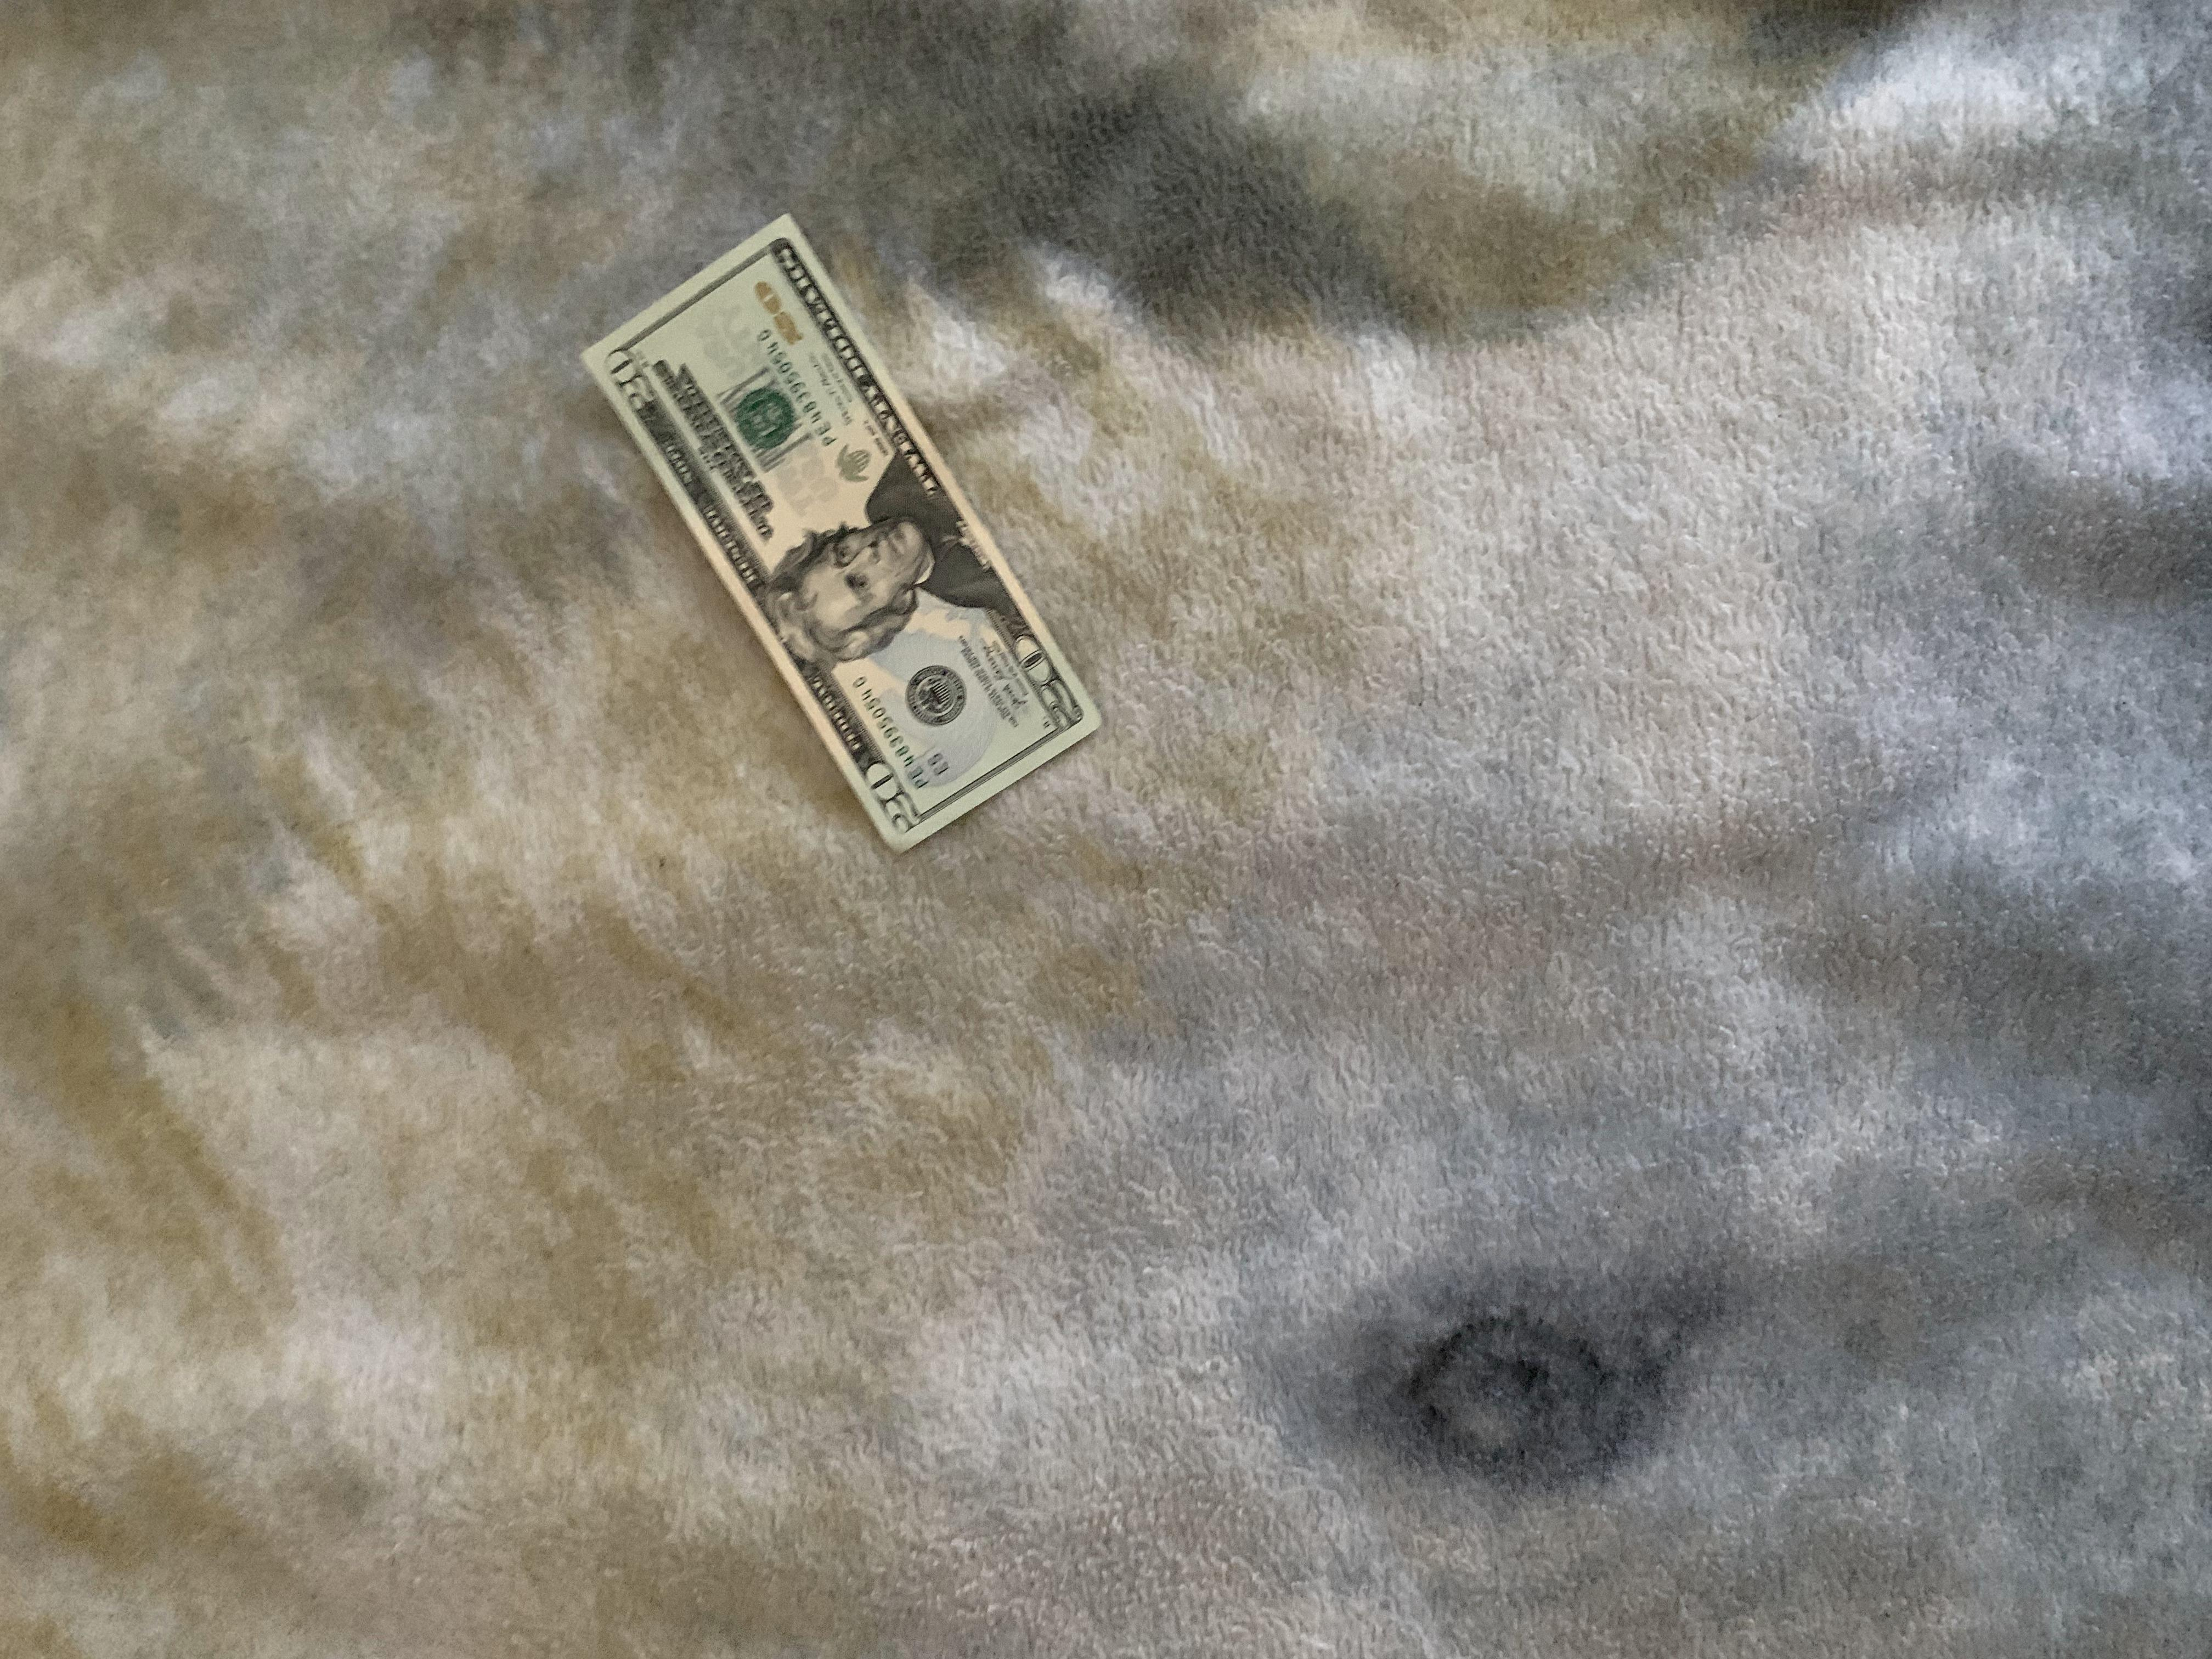TwentyBill: (573, 213, 1113, 854)
